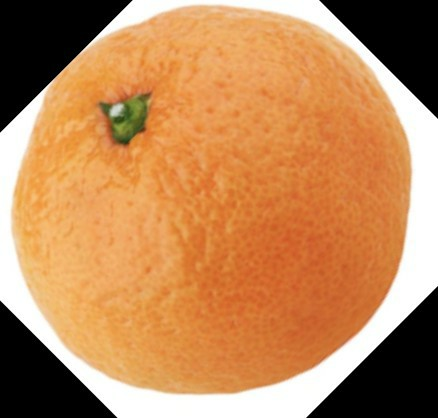fresh_orange: (15, 9, 411, 390)
